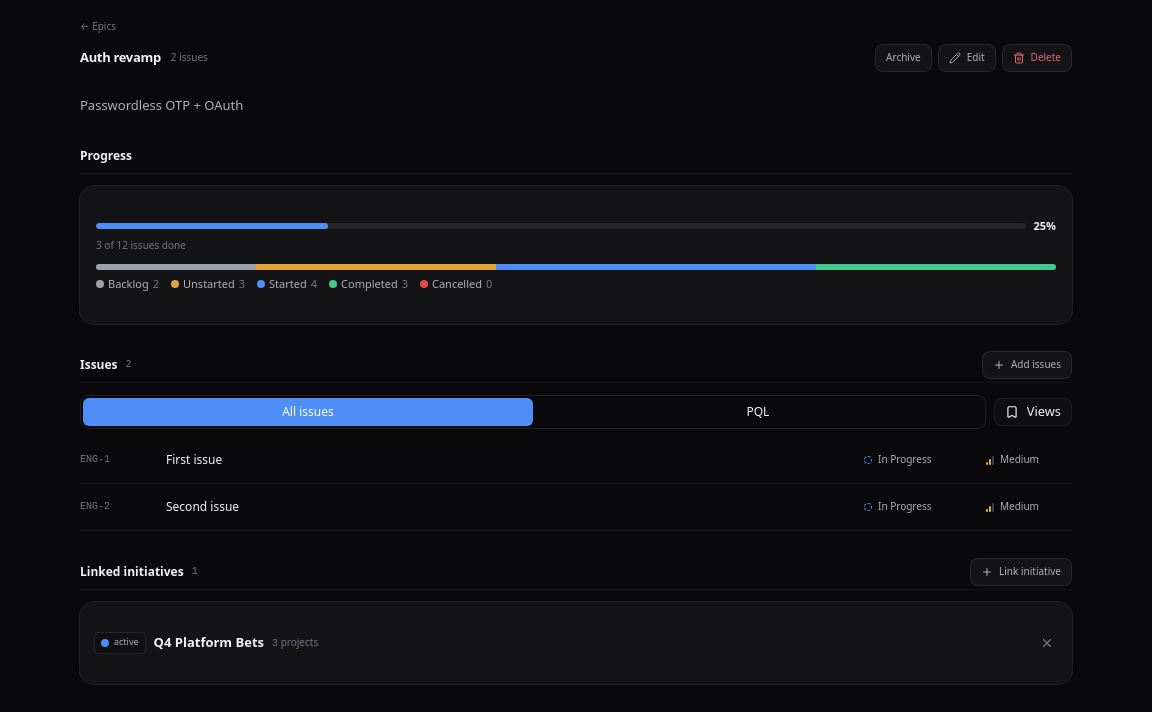
Test: epic detail saved views (C108T3) › applying a saved PQL view narrows the list and shows the query in the editor
Check: the text "First issue" is shown, box [166,451,222,468]
Click the button with aria-label "Saved views".
click(1033, 412)  # box [994,398,1072,426]
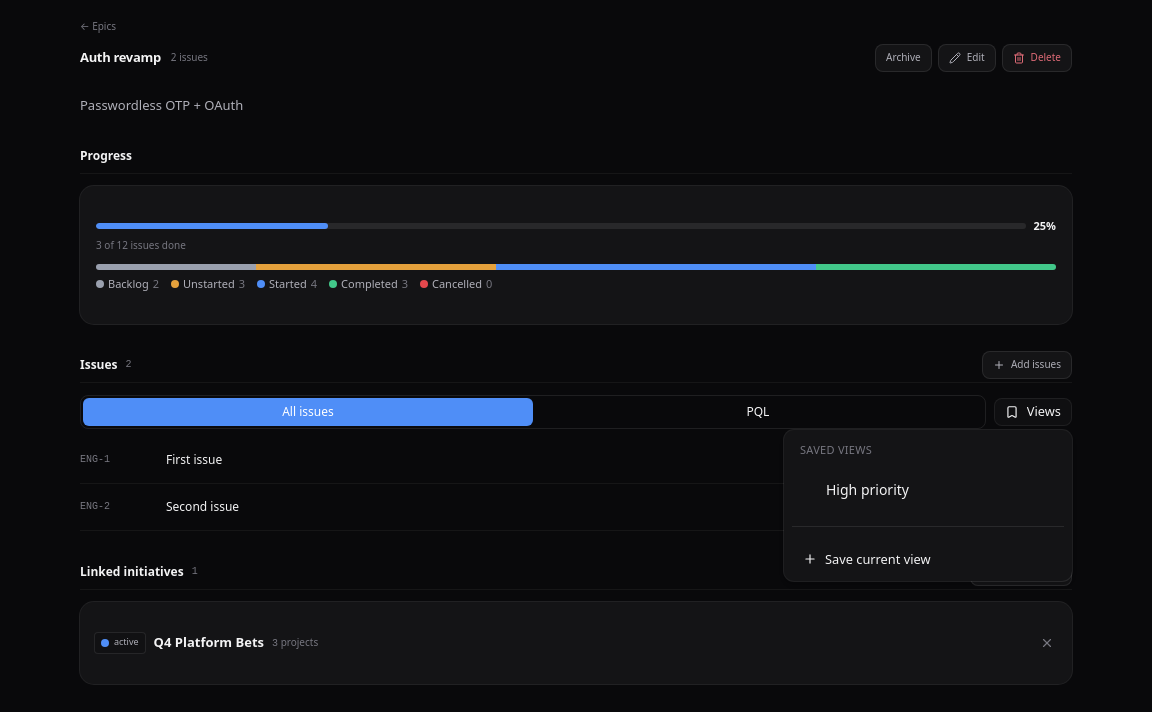
Check: the button "Save current view" is shown, box [792,545,1064,573]
Click the button titled "Apply view “High priority”".
click(868, 490)  # box [796,474,940,506]
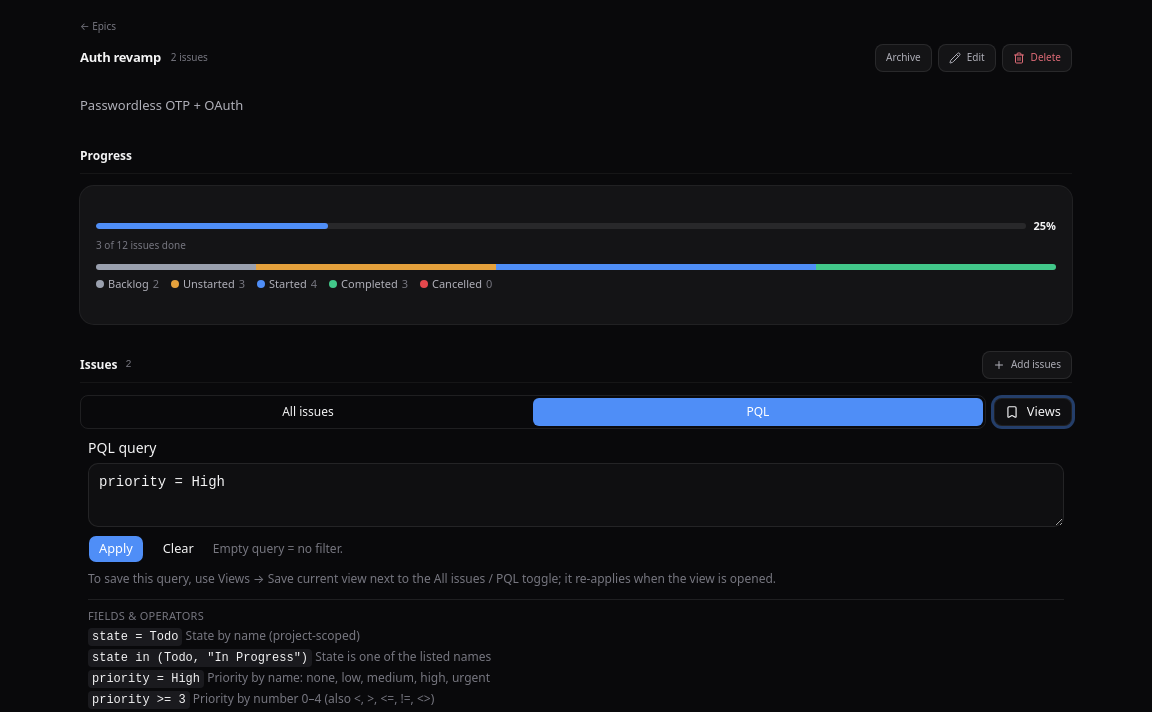
Check: the link "First issue" is gone
Check: the text box labelled "PQL query" holds "priority = High", box [88,463,1064,527]
